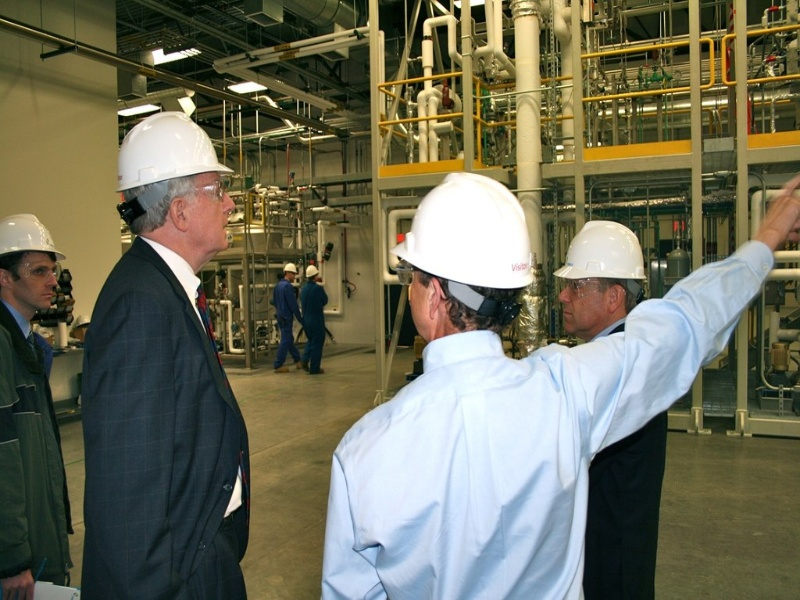Baret: (393, 171, 537, 289), (118, 111, 229, 186), (552, 218, 649, 283), (1, 212, 65, 257)
